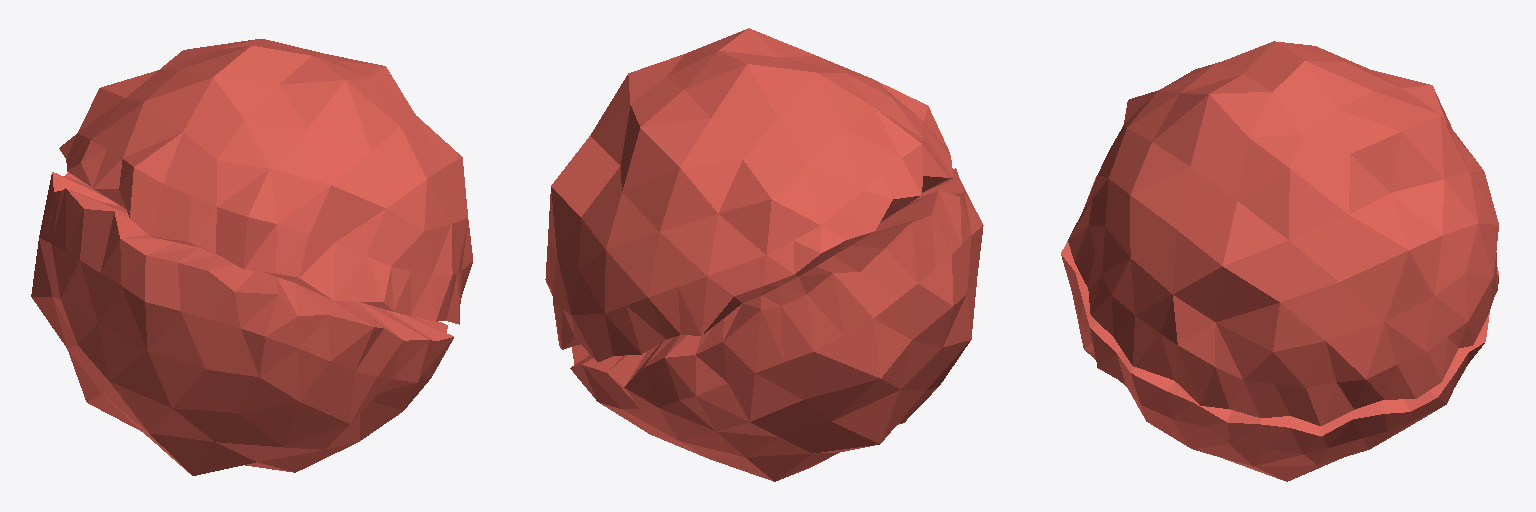
Rendered from 裂缝星球.obj.
3 views of the same model, side by side, from view 1: azimuth 30°, elevation 25°; view 2: azimuth 150°, elevation 25°; view 3: azimuth 270°, elevation 25° (orthographic).
Parts seen in each view (by area): view 1: 球体; view 2: 球体; view 3: 球体.
Part boxes in pixels (x1,y1,x2,y2): 球体: (31, 39, 472, 475); 球体: (545, 28, 983, 481); 球体: (1061, 41, 1498, 481).
Bounding box in the file's own units: 233 × 232 × 232.